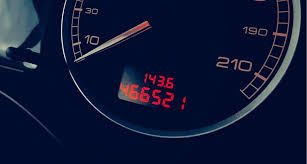Digital_Meter: (115, 61, 188, 112)
